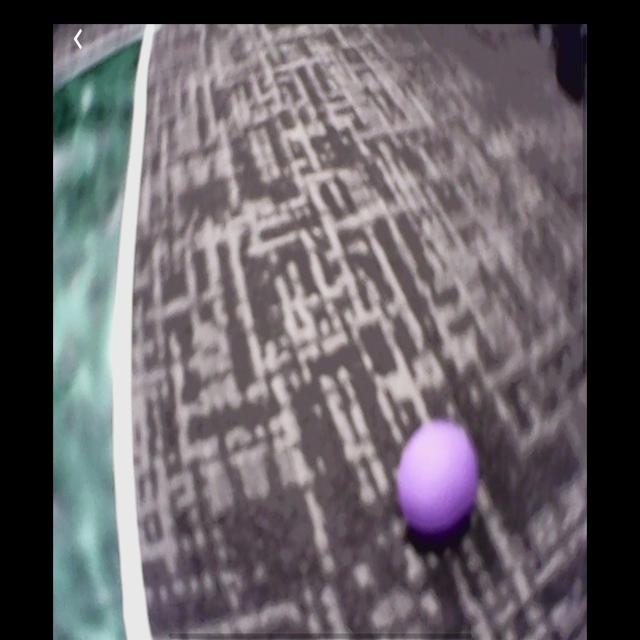ball: (395, 416, 479, 537)
